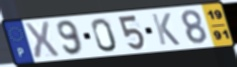0: (89, 17, 119, 53)
5: (116, 13, 147, 51)
8: (180, 9, 209, 46)
9: (56, 19, 85, 56)
K: (150, 12, 183, 47)
X: (22, 20, 62, 60)
